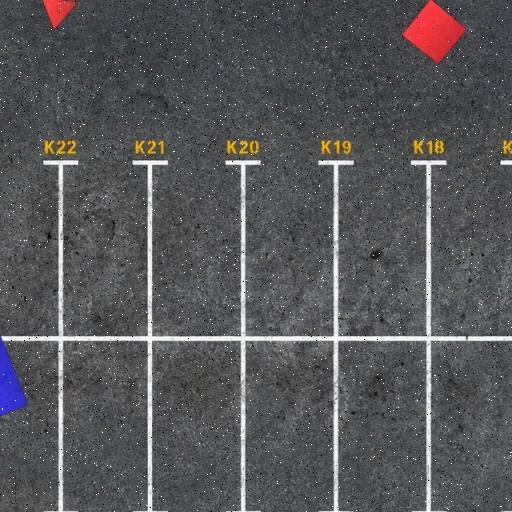RED_SQUARE: (402, 0, 467, 65)
